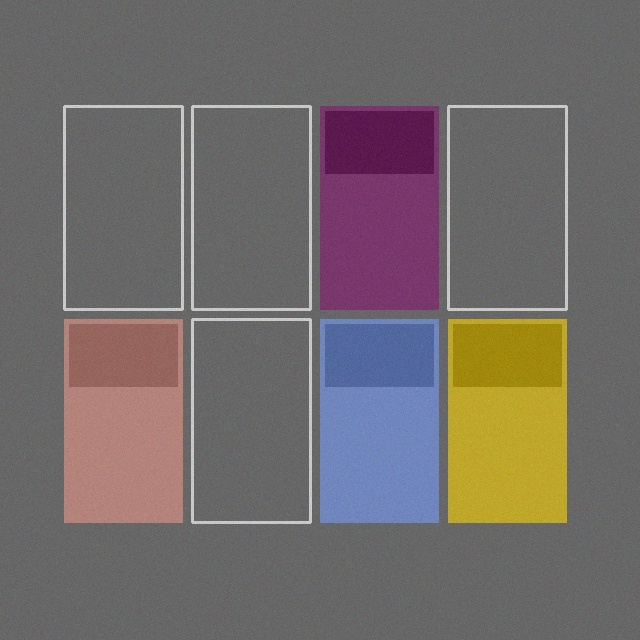space-empty: (64, 106, 182, 309), (192, 106, 310, 309), (448, 106, 566, 309), (192, 319, 310, 522)
space-occupied: (320, 106, 438, 309), (64, 319, 182, 522), (320, 319, 438, 522), (448, 319, 566, 522)
